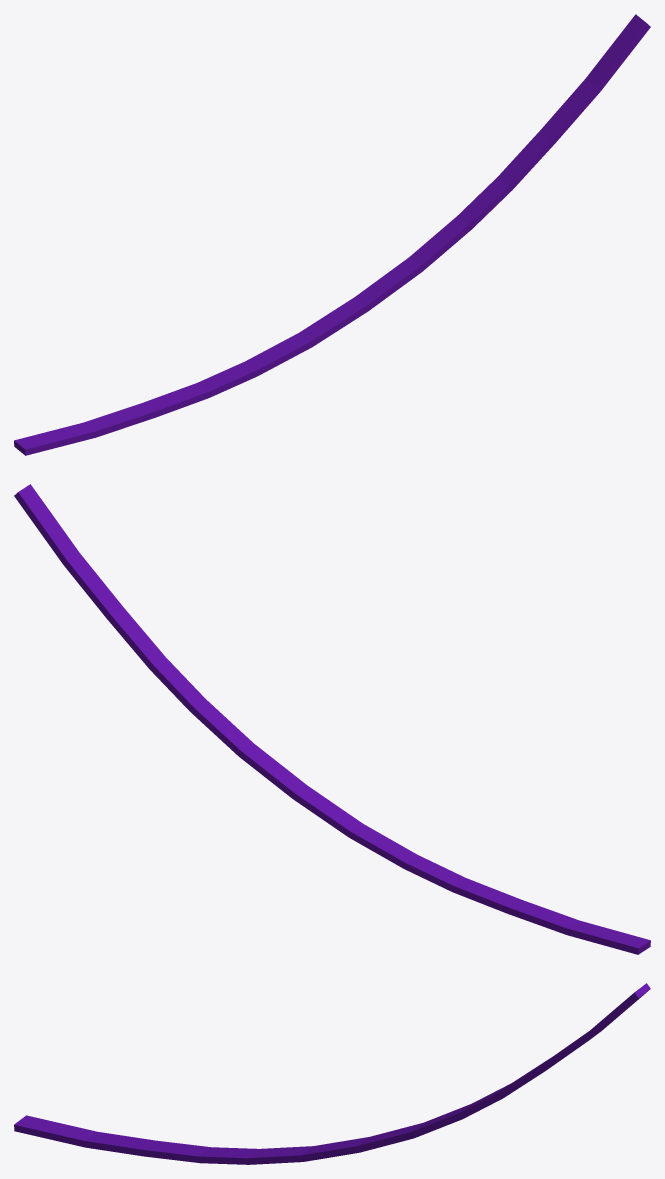
File: Tape_12_chunks.fbx
The picture shows the model from 3 angles, top to bottom: view 1: azimuth 30°, elevation 25°; view 2: azimuth 150°, elevation 25°; view 3: azimuth 330°, elevation 25°; orthographic projection. The views are drawn at different scales.
Visible parts, largest first — view 1: Tape_12_3, Tape_12_2, Tape_12_1; view 2: Tape_12_3, Tape_12_2, Tape_12_1, Tape_12_0; view 3: Tape_12_2, Tape_12_3, Tape_12_1.
Boxes of the visible parts, x1,y1,x2,y2 form: Tape_12_3: (380,14,650,284); Tape_12_2: (14,336,297,455); Tape_12_1: (286,281,404,360); Tape_12_3: (14,484,276,774); Tape_12_2: (357,832,650,954); Tape_12_1: (274,761,377,832); Tape_12_0: (262,773,366,847); Tape_12_2: (14,1115,307,1164); Tape_12_3: (388,983,650,1142); Tape_12_1: (278,1132,395,1163).
Bounding box in the file's own units: 736 × 334 × 46.1.
